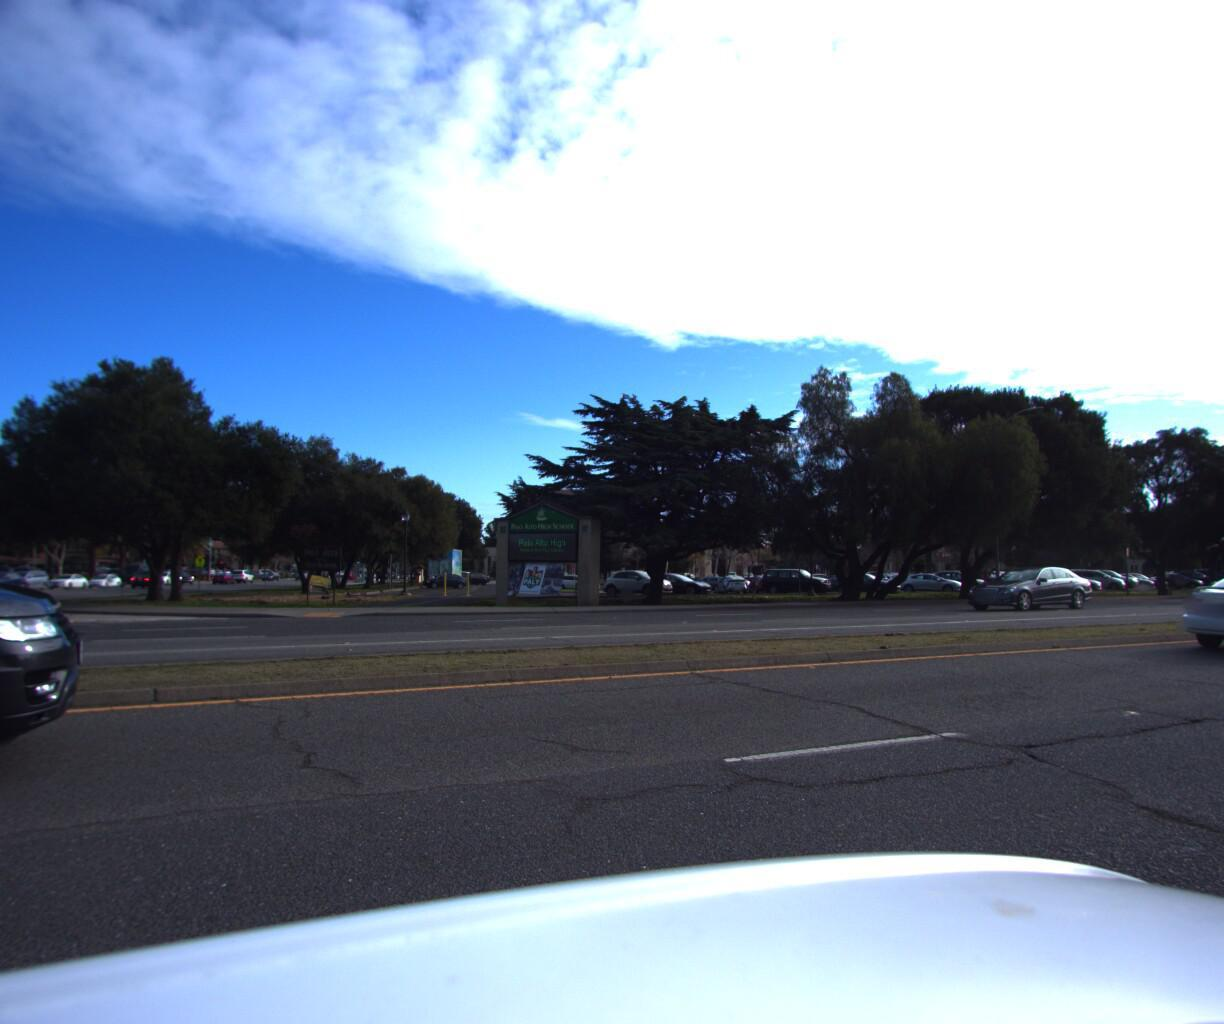bus: (1194, 518, 1224, 604)
car: (0, 391, 128, 976), (957, 561, 1097, 607), (1174, 555, 1224, 660), (0, 564, 30, 588), (132, 564, 167, 583)
